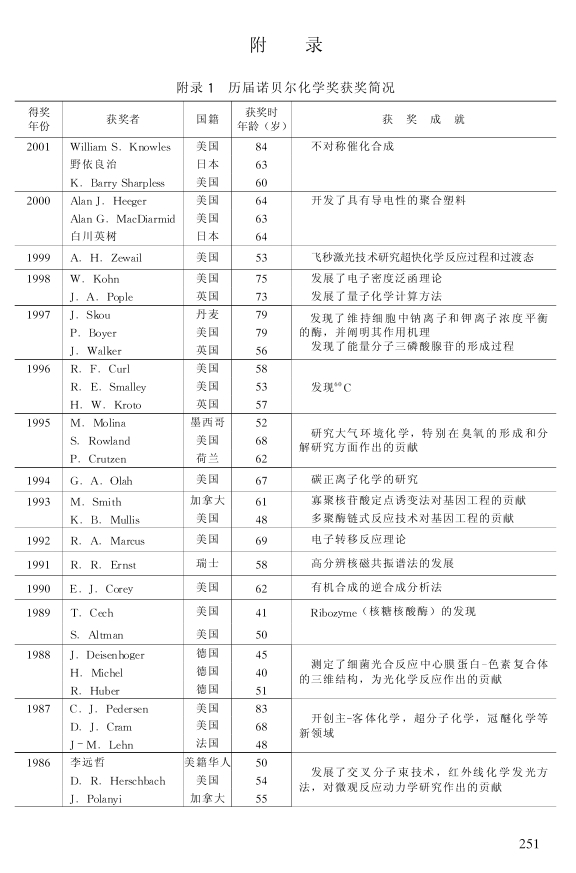table: (14, 100, 556, 807)
